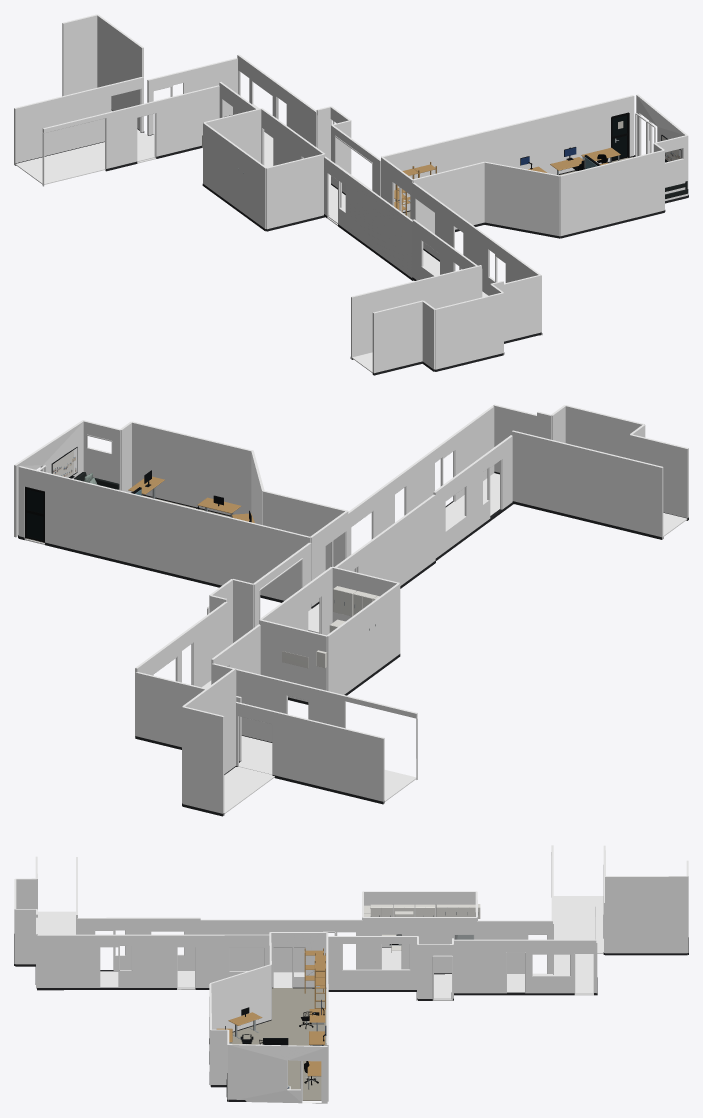
The picture shows the model from 3 angles, top to bottom: view 1: azimuth 30°, elevation 25°; view 2: azimuth 150°, elevation 25°; view 3: azimuth 270°, elevation 25°; orthographic projection. The views are drawn at different scales.
Parts seen in each view (by area): view 1: architecture_region_lab-wall-1, architecture_region_lab-wall-5, architecture_region_north-inner, architecture_region_north-outer, architecture_region_lab-hall-west, architecture_region_lab-wall-6, architecture_region_west-inner, architecture_region_west-alcove-back, architecture_region_kitchen-wall-4, architecture_region_kitchen-wall-3, architecture_region_south-hall-east, architecture_region_west-outer-left (+20 smaller); view 2: architecture_region_lab-wall-1, architecture_region_west-inner, architecture_region_lab-wall-5, architecture_region_north-outer, architecture_region_south-hall-east, architecture_region_kitchen-wall-4, architecture_region_north-inner, architecture_region_lab-hall-west, architecture_region_stair-north, architecture_region_south-hall-west, architecture_region_north-entry, architecture_region_kitchen-wall-1 (+21 smaller); view 3: architecture_region_south-hall-east, architecture_region_stair-east, architecture_region_central-east, architecture_region_lab-wall-2, architecture_region_lab-hall-west, architecture_floor_lab-2f, architecture_region_kitchen-wall-2, architecture_floor_north-hall-2f, architecture_region_central-east-south, architecture_region_lab-wall-6, architecture_region_south-hall-west, architecture_region_central-west (+11 smaller).
Boxes of the visible parts, <box> form: architecture_region_lab-wall-1: <box>381,95,634,211</box>; architecture_region_lab-wall-5: <box>560,150,664,237</box>; architecture_region_north-inner: <box>42,85,219,186</box>; architecture_region_north-outer: <box>14,85,108,165</box>; architecture_region_lab-hall-west: <box>324,156,412,277</box>; architecture_region_lab-wall-6: <box>484,161,560,236</box>; architecture_region_west-inner: <box>351,265,481,359</box>; architecture_region_west-alcove-back: <box>434,292,503,369</box>; architecture_region_kitchen-wall-4: <box>203,122,266,228</box>; architecture_region_kitchen-wall-3: <box>266,154,324,229</box>; architecture_region_south-hall-east: <box>412,182,541,335</box>; architecture_region_west-outer-left: <box>372,300,422,373</box>; architecture_region_lab-wall-1: <box>18,466,310,600</box>; architecture_region_west-inner: <box>511,430,663,539</box>; architecture_region_lab-wall-5: <box>131,421,253,515</box>; architecture_region_north-outer: <box>275,711,384,803</box>; architecture_region_south-hall-east: <box>348,405,494,571</box>; architecture_region_kitchen-wall-4: <box>326,583,400,694</box>; architecture_region_north-inner: <box>211,663,417,779</box>; architecture_region_lab-hall-west: <box>335,494,435,585</box>; architecture_region_stair-north: <box>182,706,224,815</box>; architecture_region_south-hall-west: <box>433,435,512,557</box>; architecture_region_north-entry: <box>135,672,241,761</box>; architecture_region_kitchen-wall-1: <box>259,619,327,701</box>; architecture_region_south-hall-east: <box>37,934,269,989</box>; architecture_region_stair-east: <box>605,876,687,953</box>; architecture_region_central-east: <box>454,939,596,995</box>; architecture_region_lab-wall-2: <box>228,1044,327,1103</box>; architecture_region_lab-hall-west: <box>200,919,362,972</box>; architecture_floor_lab-2f: <box>229,988,326,1100</box>; architecture_region_kitchen-wall-2: <box>363,917,476,973</box>; architecture_floor_north-hall-2f: <box>553,896,603,994</box>; architecture_region_central-east-south: <box>328,936,417,989</box>; architecture_region_lab-wall-6: <box>210,964,271,1031</box>; architecture_region_south-hall-west: <box>77,917,200,970</box>; architecture_region_central-west: <box>477,920,552,973</box>.
Size of the model in its own units: 24.21 by 4.21 by 32.79.
Materials: 33 (1 with a texture image).
